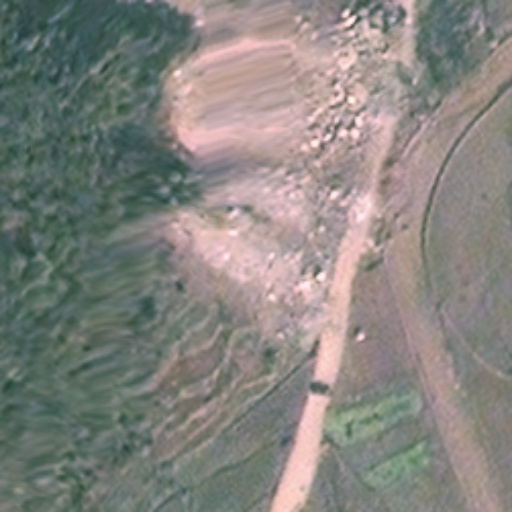landslide: (166, 9, 377, 308)
